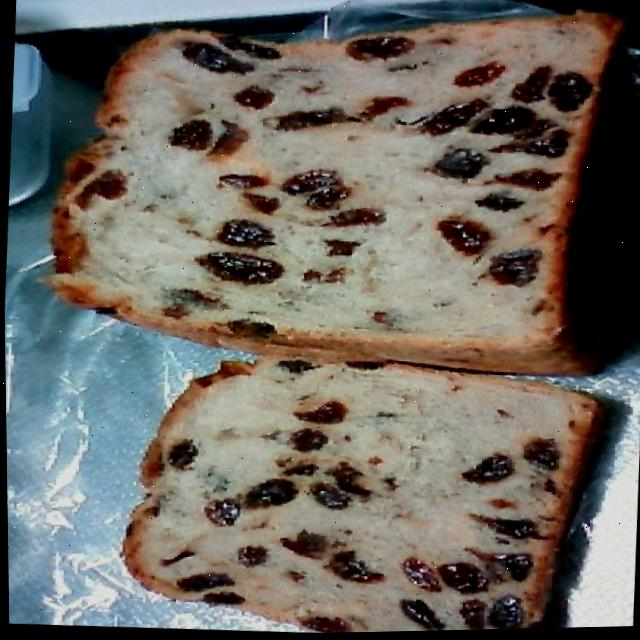面包点心: (44, 0, 619, 639)
